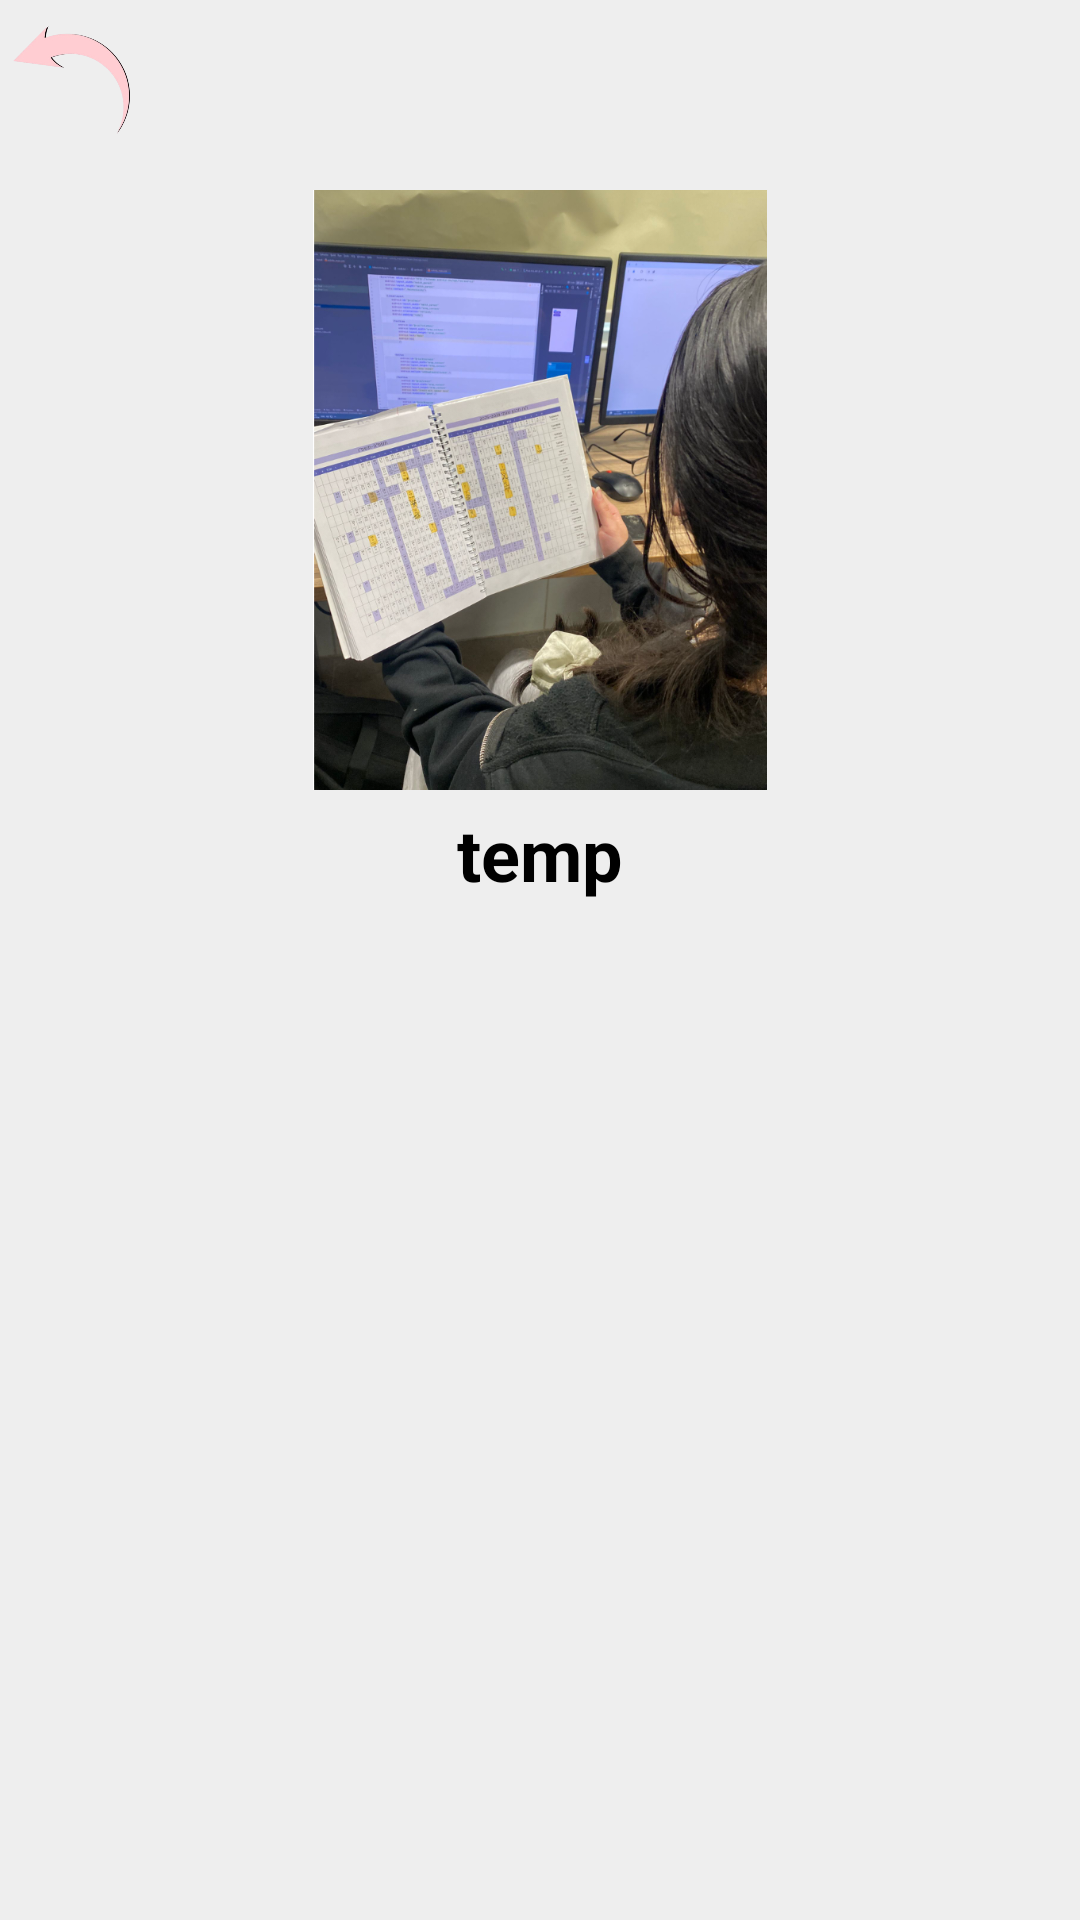

Screen size 1080x1920. Icon name, then its box in pixels as (x1, y1, x2, y2):
Back Button: (14, 26, 130, 133)
